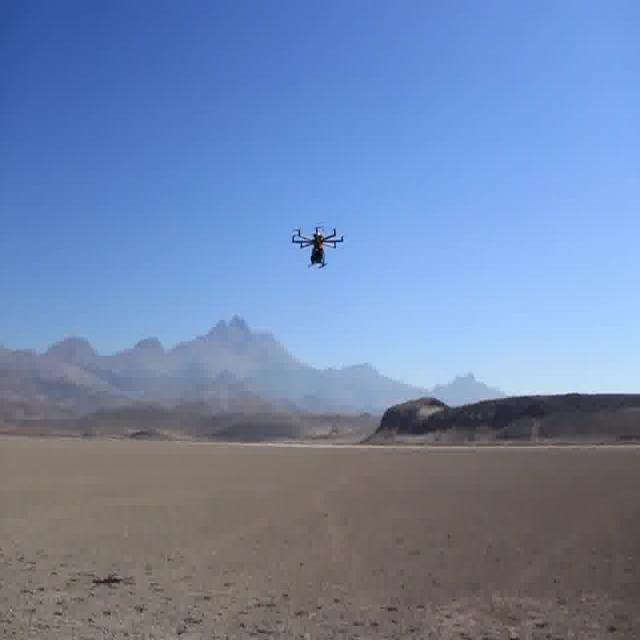drone: (287, 210, 352, 280)
